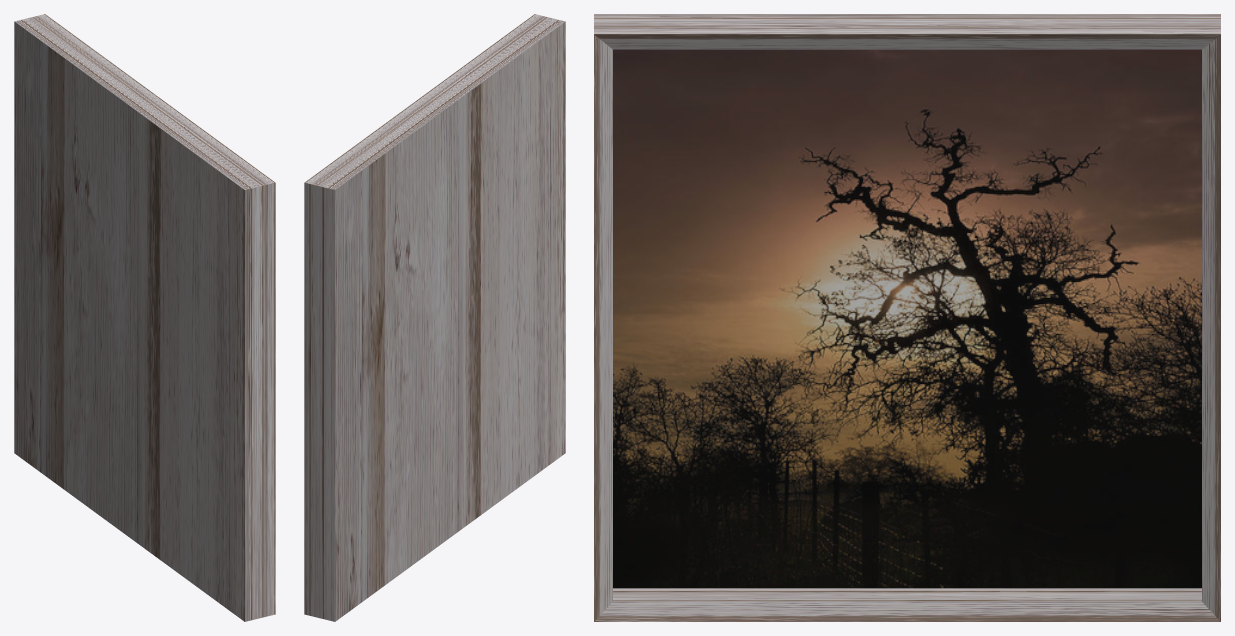
Rendered from square_picture_frame_white.glb.
3 views of the same model, side by side, from view 1: azimuth 30°, elevation 25°; view 2: azimuth 150°, elevation 25°; view 3: azimuth 270°, elevation 25° (orthographic). The views are drawn at different scales.
Visible parts, largest first — view 1: Object_3; view 2: Object_3; view 3: Object_2, Object_3.
Boxes of the visible parts, x1=… form: Object_3: x1=14, y1=14, x2=275, y2=621; Object_3: x1=304, y1=14, x2=565, y2=621; Object_2: x1=613, y1=49, x2=1201, y2=588; Object_3: x1=594, y1=14, x2=1220, y2=621.
Size of the model in its own units: 0.18 by 2.42 by 2.34.
Materials: 2 (2 with a texture image).
